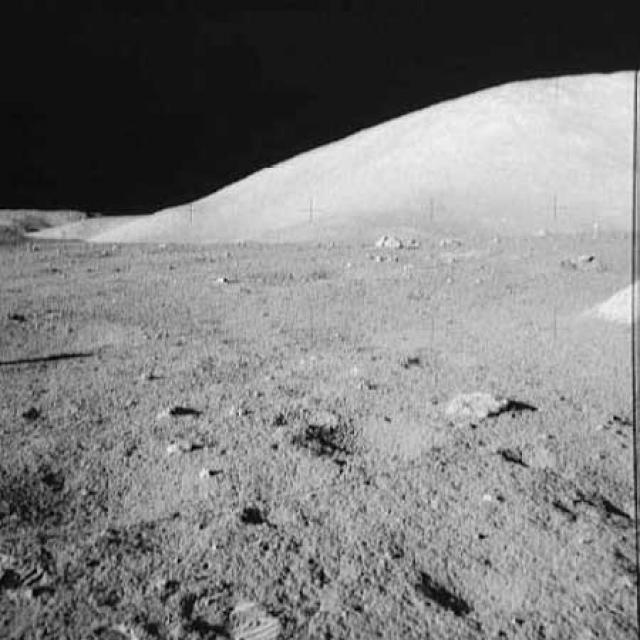crater: (0, 446, 167, 525)
rock: (440, 382, 535, 426)
